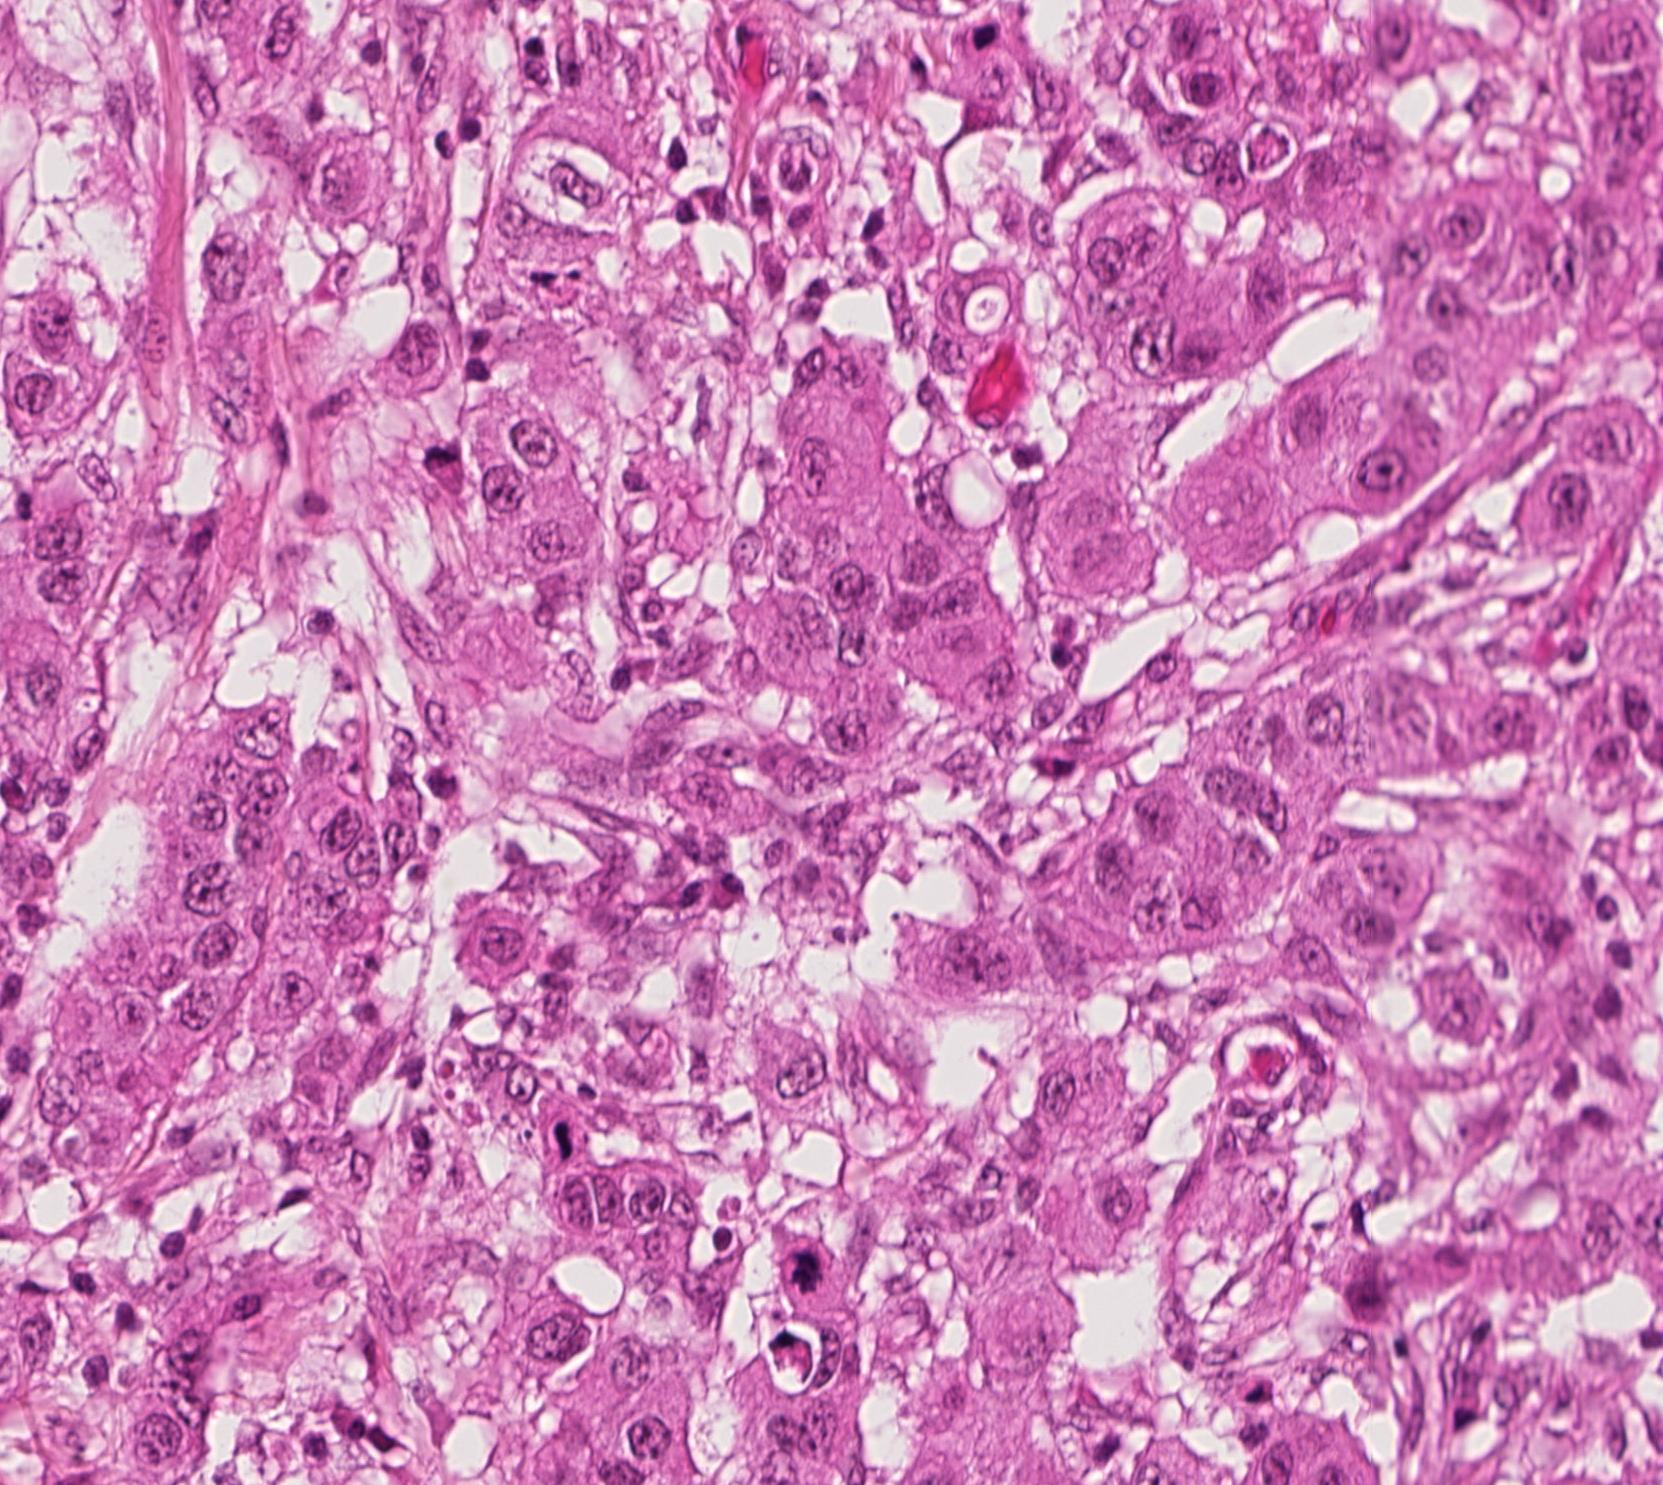mitosis: (776, 1230, 836, 1290)
